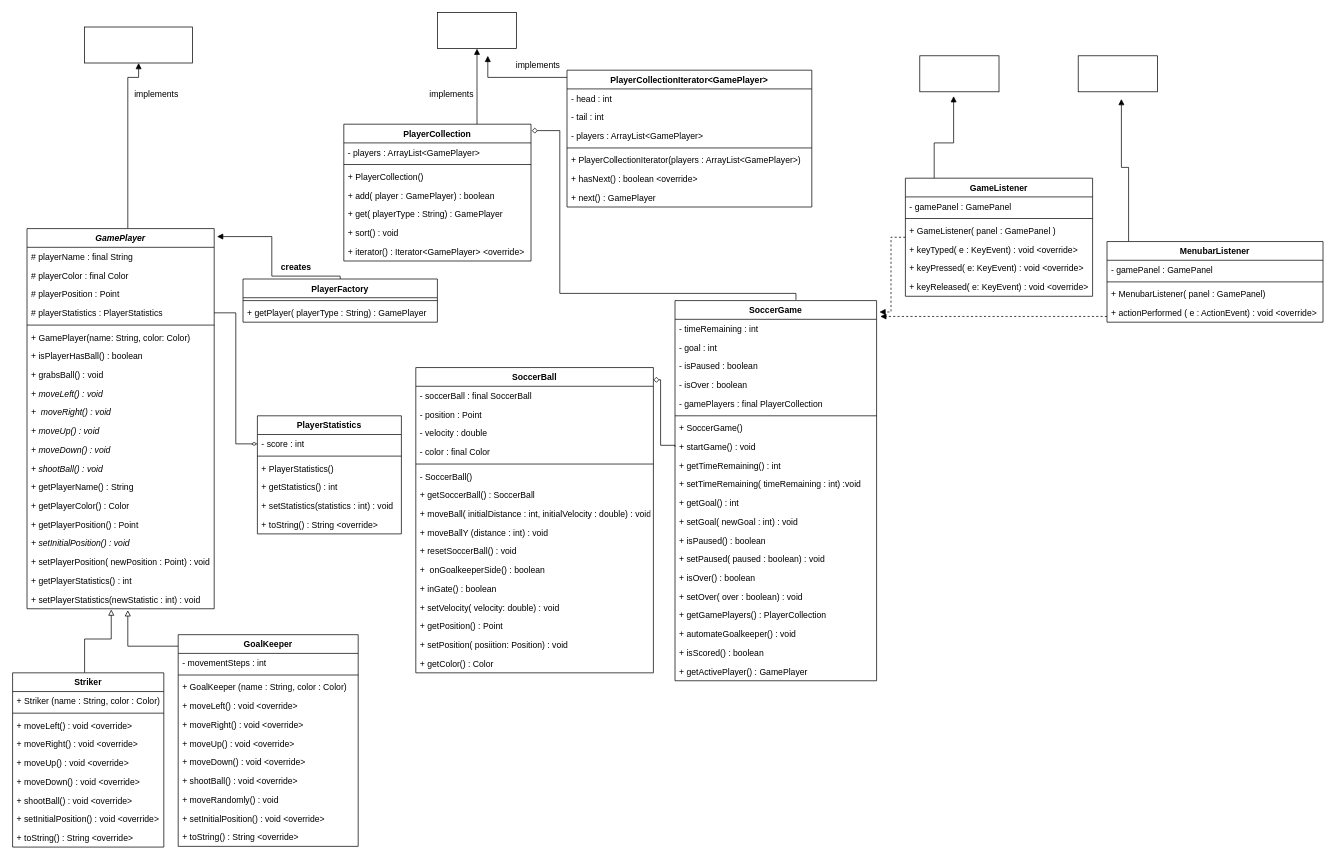
Some shapes in this 1336 by 862 pixel diagram are drawn without their labels. The centre of each missing label's shape, as x and y in pixels:
«Comparable interface» GamePlayer: the point at 138,44
«interface» ActionListener: the point at 1117,73
«interface» KeyListener: the point at 959,73
«Iterable interface» GamePlayer: the point at 477,30
